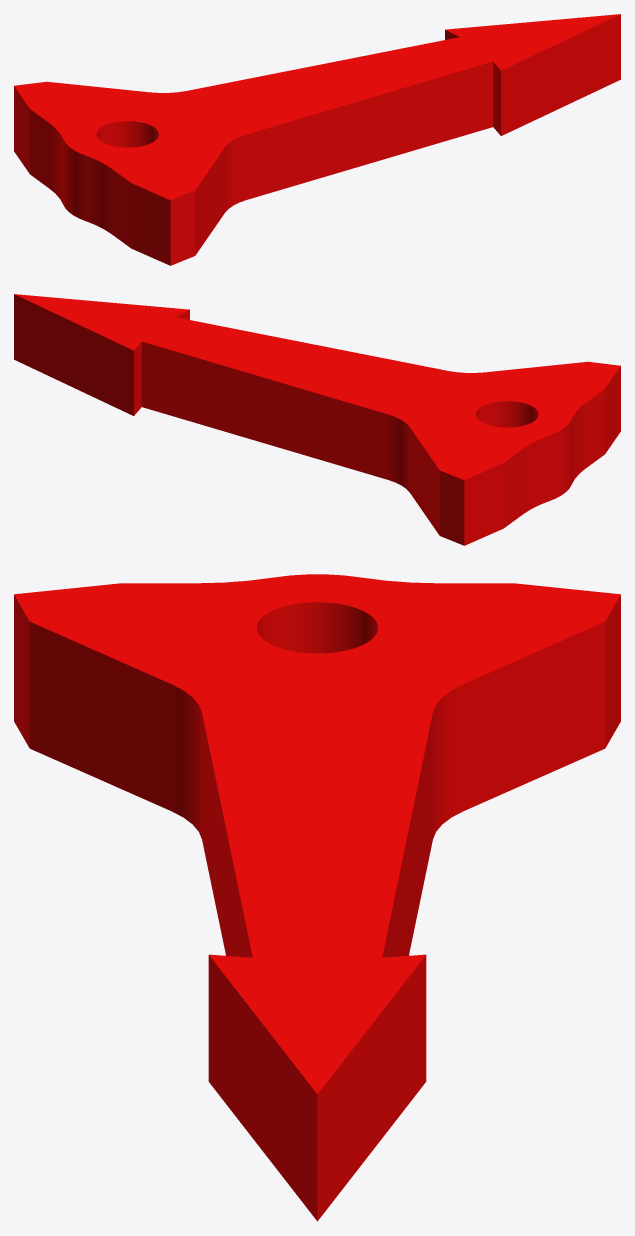
Rendered from Mr Stabs Front Fork.dae.
3 renders of one model, top to bottom at view 1: azimuth 30°, elevation 25°; view 2: azimuth 150°, elevation 25°; view 3: azimuth 270°, elevation 25°, orthographic. The views are drawn at different scales.
Parts seen in each view (by area): view 1: ID2; view 2: ID2; view 3: ID2.
Boxes of the visible parts, left/top/right/bottom form: ID2: left=14, top=14, right=620, bottom=265; ID2: left=14, top=294, right=620, bottom=545; ID2: left=14, top=574, right=620, bottom=1221.
Bounding box in the file's own units: 0.0557 × 0.0275 × 0.00635.
